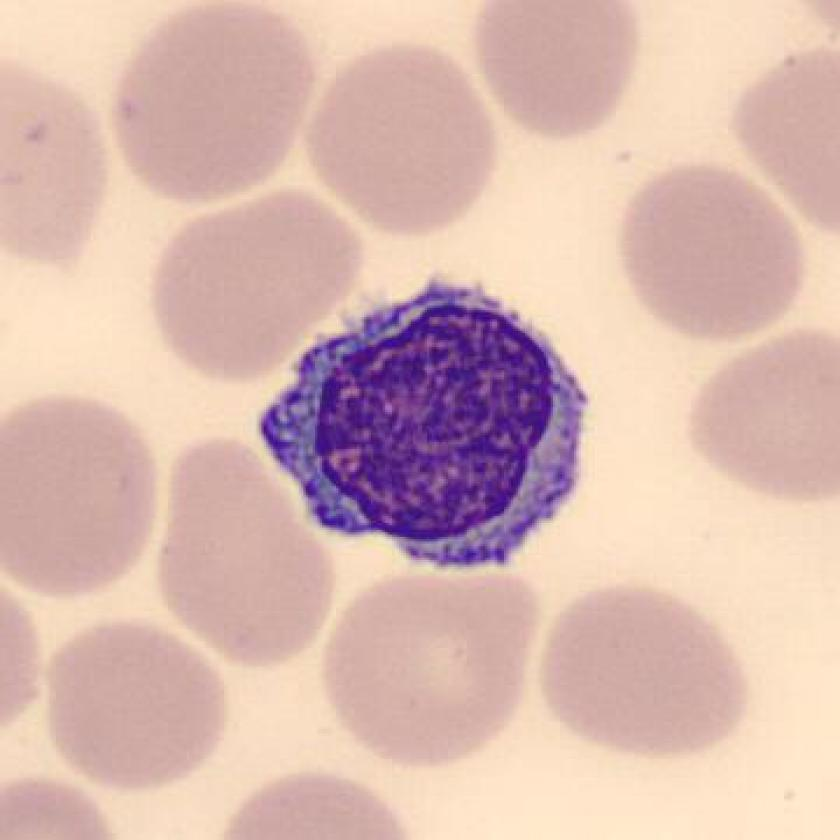lymphocyte: (235, 270, 606, 584)
